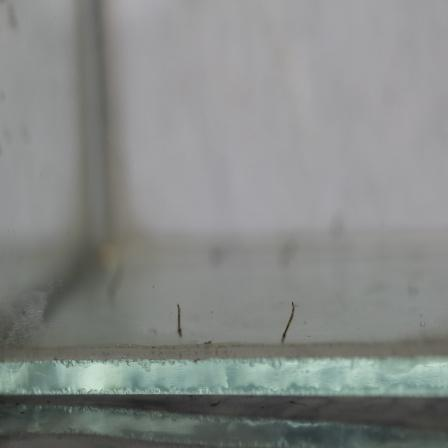Jentik-Nyamuk: (278, 300, 299, 344), (170, 301, 189, 342)
